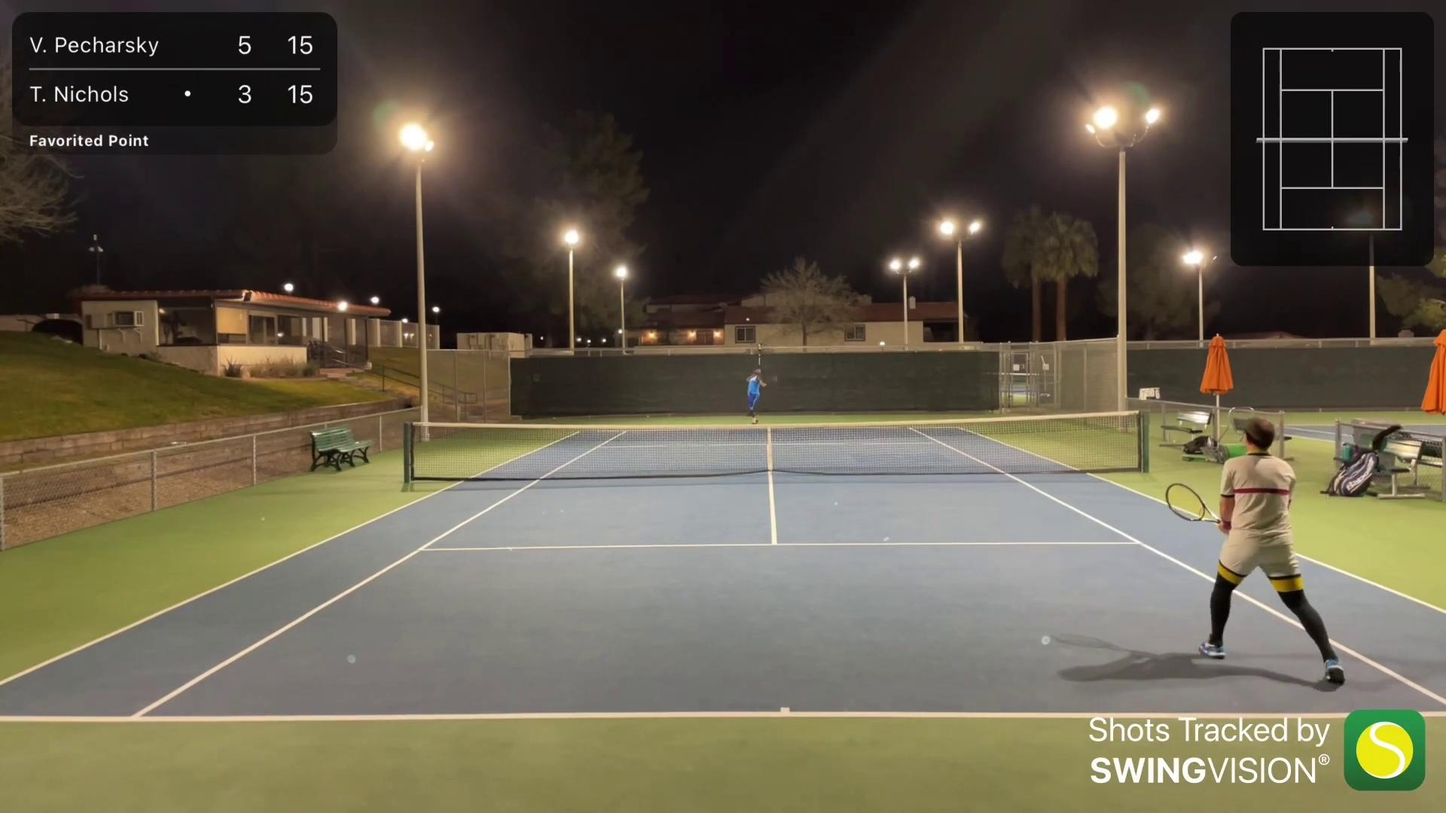ball: (744, 315, 750, 321)
